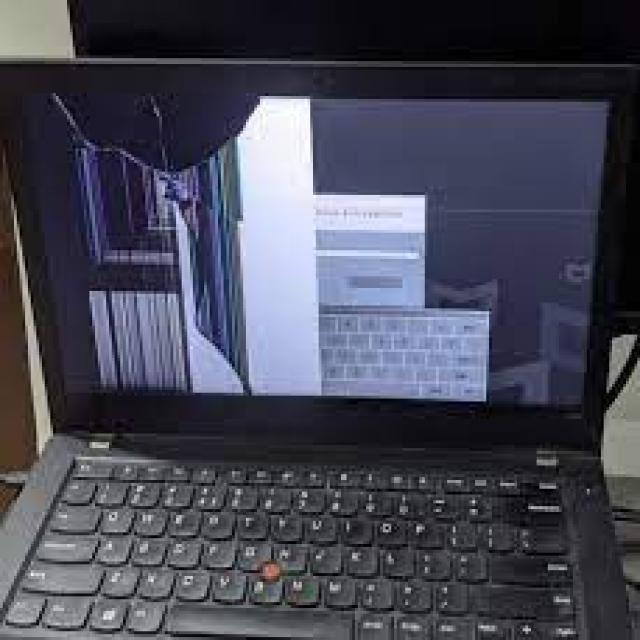Screen cracks: (44, 93, 330, 402)
